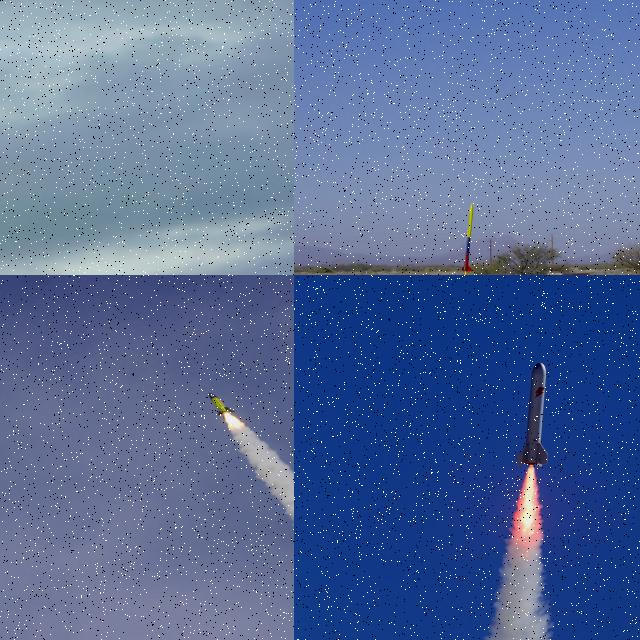Rocket: (512, 355, 552, 469), (462, 202, 474, 272), (208, 392, 235, 420)
